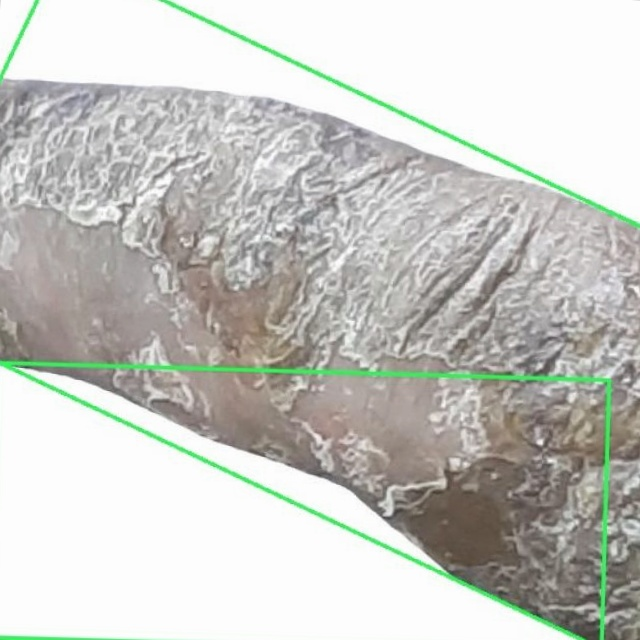Eczema: (0, 0, 639, 639), (0, 364, 610, 639)
